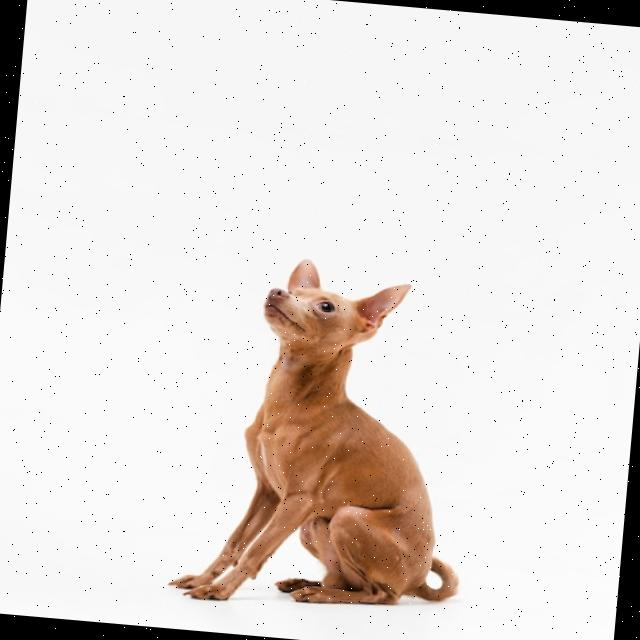Dog: (168, 246, 484, 621)
